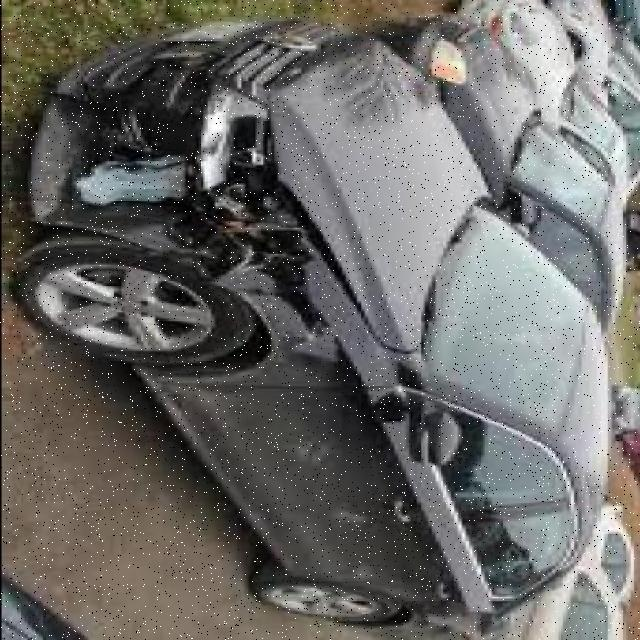damage: (28, 99, 352, 340)
